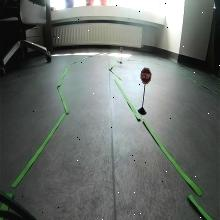stop: (140, 67, 152, 85)
